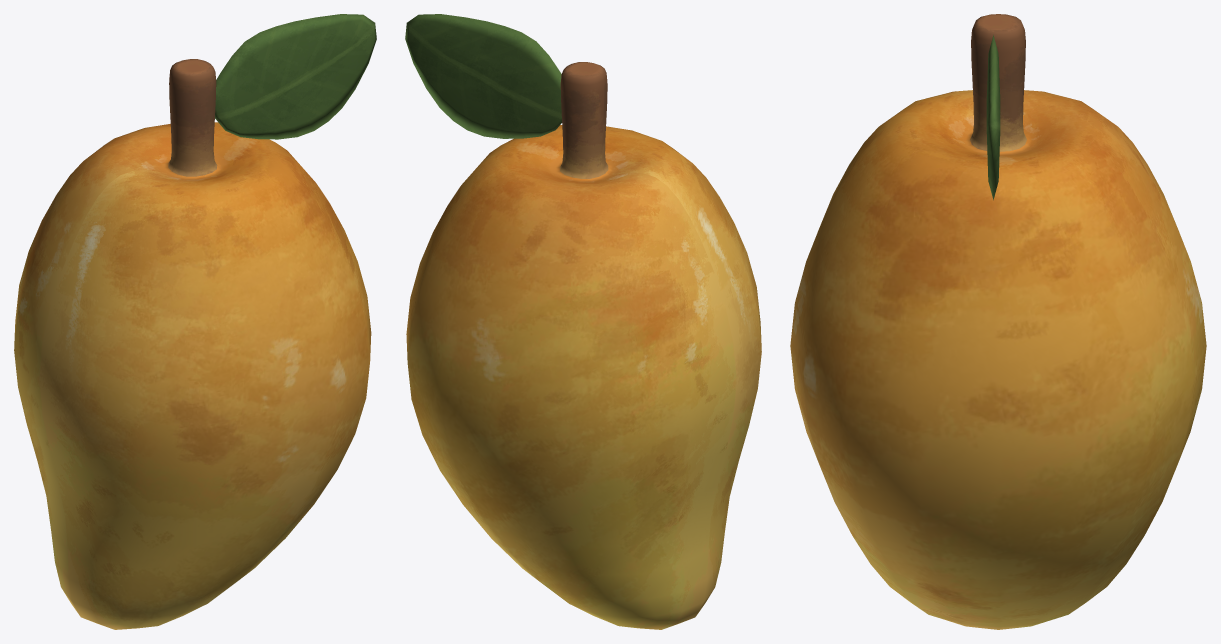
Rendered from fruit_mango.fbx.
3 renders of one model, left to right at view 1: azimuth 30°, elevation 25°; view 2: azimuth 150°, elevation 25°; view 3: azimuth 270°, elevation 25°, orthographic. The views are drawn at different scales.
Parts seen in each view (by area): view 1: pCube21, pCube22; view 2: pCube21, pCube22; view 3: pCube21, pCube22.
Part boxes in pixels (x1=…): pCube21: x1=14, y1=59, x2=371, y2=629; pCube22: x1=215, y1=14, x2=376, y2=139; pCube21: x1=406, y1=62, x2=761, y2=629; pCube22: x1=405, y1=14, x2=561, y2=138; pCube21: x1=790, y1=14, x2=1206, y2=629; pCube22: x1=986, y1=35, x2=1000, y2=200.
Size of the model in its own units: 10.38 by 16.56 by 9.49.
2 materials, 2 textured.
